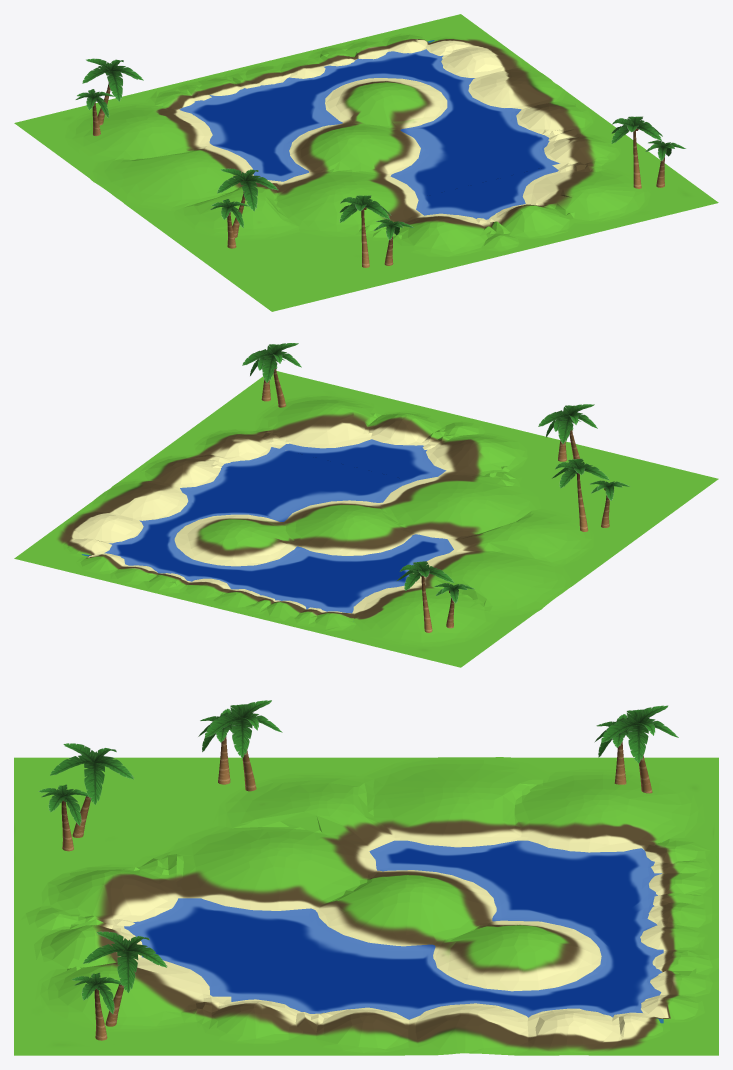
Rendered from maailma.glb.
3 views of the same model, one above another, from view 1: azimuth 30°, elevation 25°; view 2: azimuth 150°, elevation 25°; view 3: azimuth 270°, elevation 25° (orthographic). The views are drawn at different scales.
Visible parts, largest first — view 1: Grid, Plane, Plane.001; view 2: Grid, Plane, Plane.001; view 3: Grid, Plane, Plane.001, leave3_lambert1_0.002, leave3_lambert1_0.006, leave8, leave8_lambert1_0.004.
Boxes of the visible parts, bbox=[...] form: Grid: bbox=[14, 14, 718, 311]; Plane: bbox=[179, 40, 559, 197]; Plane.001: bbox=[416, 165, 558, 219]; Grid: bbox=[14, 371, 718, 667]; Plane: bbox=[82, 447, 453, 613]; Plane.001: bbox=[280, 439, 445, 481]; Grid: bbox=[14, 757, 718, 1055]; Plane: bbox=[231, 840, 663, 1023]; Plane.001: bbox=[124, 898, 231, 996]; leave3_lambert1_0.002: bbox=[84, 763, 104, 804]; leave3_lambert1_0.006: bbox=[117, 951, 138, 992]; leave8: bbox=[232, 720, 252, 758]; leave8_lambert1_0.004: bbox=[628, 725, 648, 763].
Size of the model in its own units: 100 by 14.11 by 100.
Materials: 5 (4 with a texture image).
